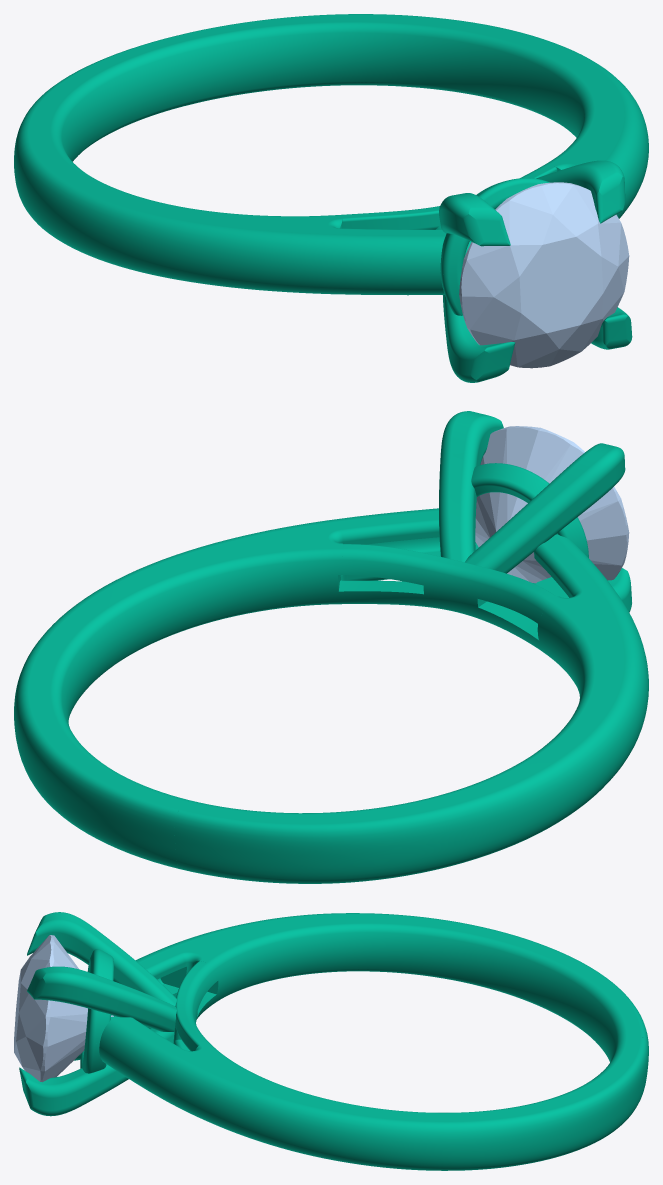
The picture shows the model from 3 angles, top to bottom: view 1: azimuth 30°, elevation 25°; view 2: azimuth 150°, elevation 25°; view 3: azimuth 270°, elevation 25°; orthographic projection. The views are drawn at different scales.
Parts seen in each view (by area): view 1: VSR-1002(base).3dm, Diamond_Round; view 2: VSR-1002(base).3dm, Diamond_Round; view 3: VSR-1002(base).3dm, Diamond_Round.
Part boxes in pixels (bbox=[...]): VSR-1002(base).3dm: bbox=[14, 14, 648, 382]; Diamond_Round: bbox=[459, 182, 629, 368]; VSR-1002(base).3dm: bbox=[14, 411, 648, 883]; Diamond_Round: bbox=[475, 426, 629, 583]; VSR-1002(base).3dm: bbox=[19, 912, 648, 1170]; Diamond_Round: bbox=[14, 935, 113, 1082].
Size of the model in its own units: 2.47 by 0.7626 by 3.05.
